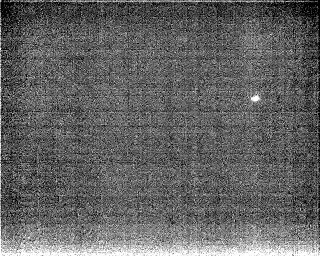AIRPLANE: (249, 93, 261, 104)
